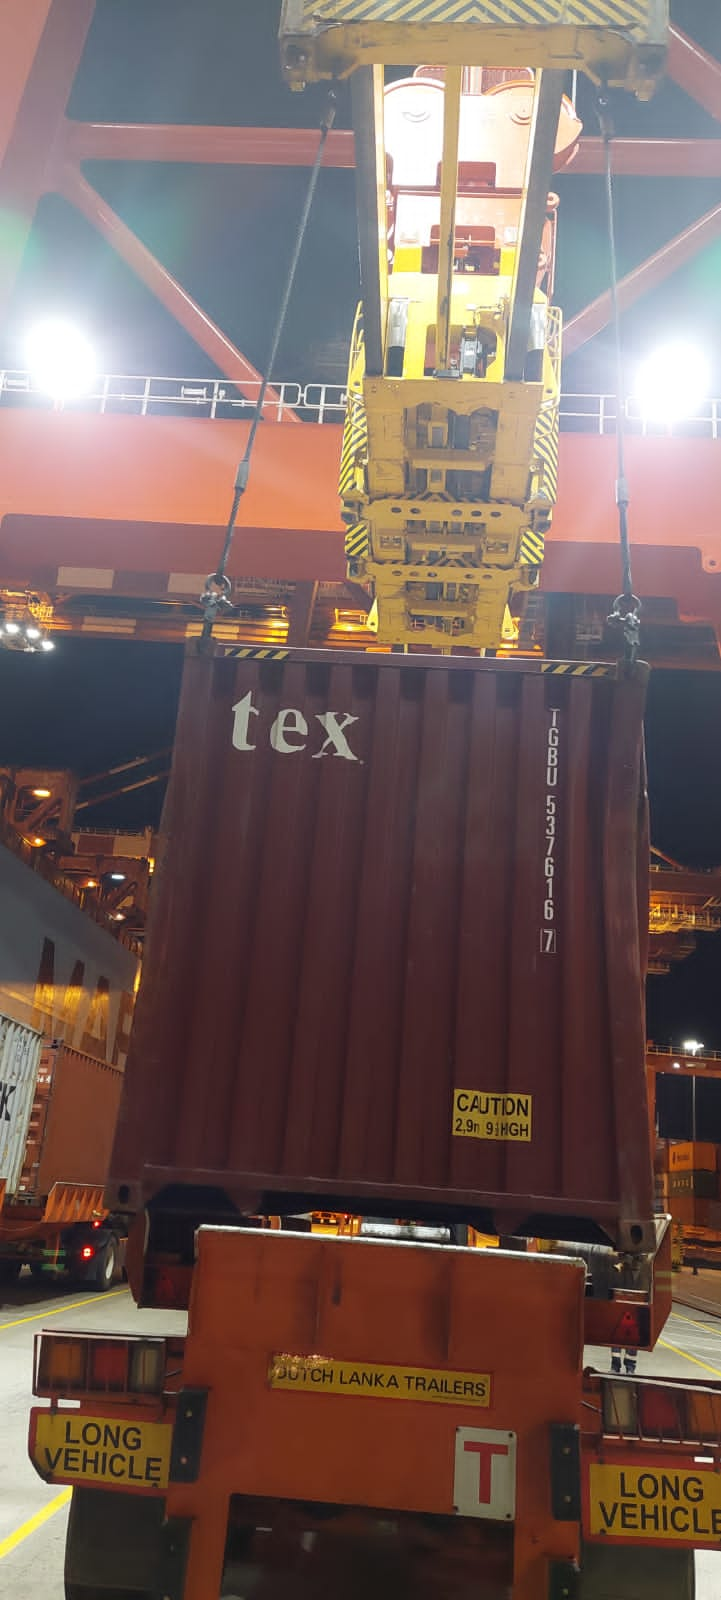moderate: (573, 660, 652, 962)
